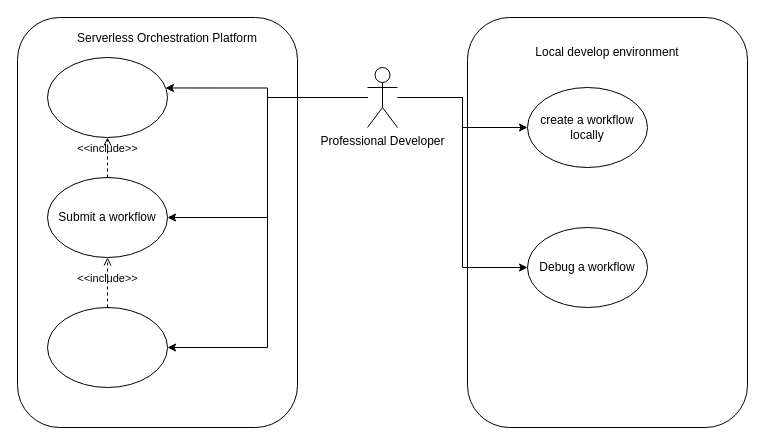
Image size: 765x445. Some labels were removed from this diagram. The shapes that lost their labels are listed below. From the top down, each one's centre as x and y in pixels, then its label:
At (x=107, y=97): "Config Connector for WeChat".
At (x=107, y=347): "Create Background Job".
